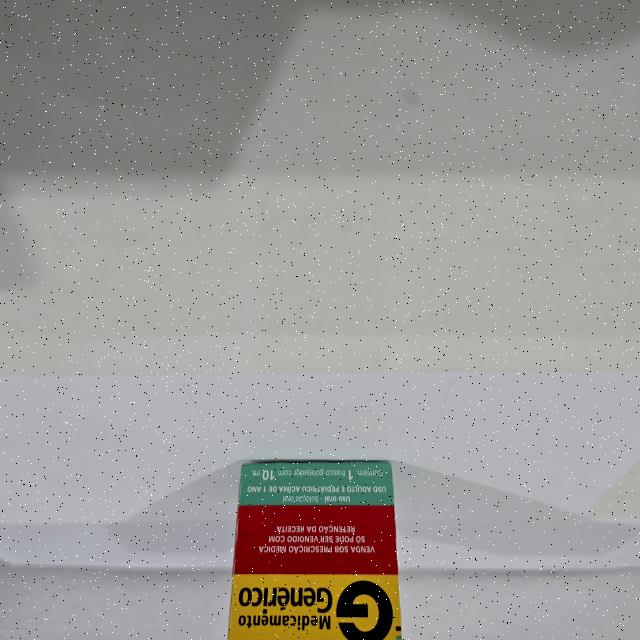tramadol: (224, 456, 408, 640)
